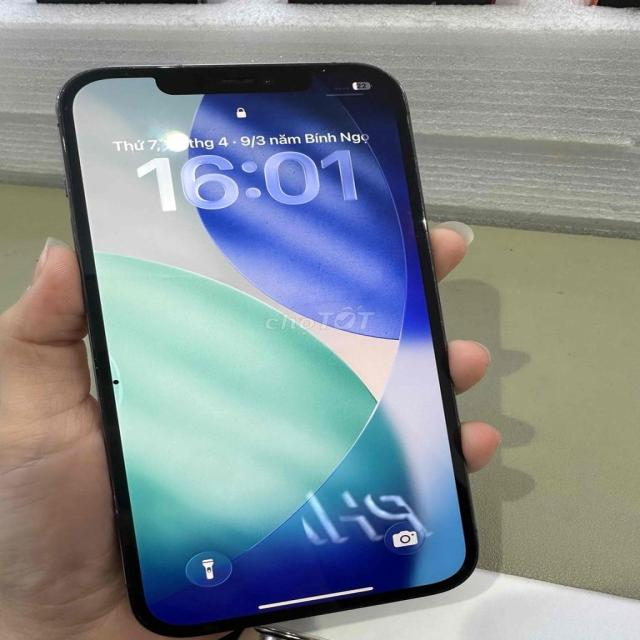gen_12_13: (52, 63, 480, 637)
